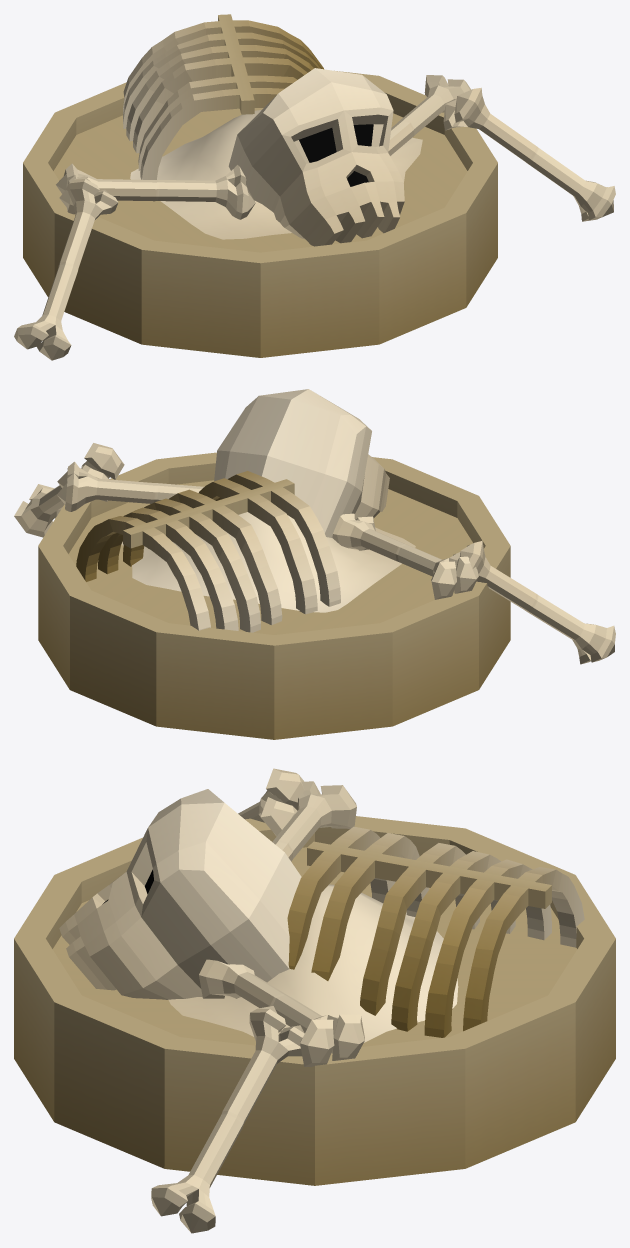
Rendered from BONFIRE.fbx.
3 views of the same model, one above another, from view 1: azimuth 30°, elevation 25°; view 2: azimuth 150°, elevation 25°; view 3: azimuth 270°, elevation 25° (orthographic). The views are drawn at different scales.
Parts seen in each view (by area): view 1: Cylinder, Cube.002, Cube.001, Plane, Cube.006, Cube.005, Cube.003, Cube.004; view 2: Cylinder, Cube.001, Cube.002, Plane, Cube.006, Cube.003, Cube.004, Cube.005; view 3: Cylinder, Cube.001, Cube.002, Plane, Cube.005, Cube.004, Cube.003, Cube.006.
Part boxes in pixels (x1,y1,x2,y2): Cylinder: (23,70,497,357); Cube.002: (228,68,404,246); Cube.001: (123,14,323,179); Plane: (130,110,422,239); Cube.006: (14,176,118,360); Cube.005: (443,87,615,221); Cube.003: (56,163,255,219); Cube.004: (388,75,470,155); Cylinder: (38,452,510,739); Cube.001: (76,471,340,632); Cube.002: (214,389,389,537); Plane: (121,512,415,612); Cube.006: (450,540,615,664); Cube.003: (332,513,478,599); Cube.004: (57,461,204,511); Cube.005: (14,443,124,537); Cylinder: (14,816,615,1185); Cube.001: (287,826,584,1037); Cube.002: (59,789,301,999); Plane: (168,884,458,1042); Cube.005: (151,1006,304,1233); Cube.004: (199,959,364,1066); Cube.003: (272,781,356,861); Cube.006: (238,768,304,836).
Bounding box in the file's own units: 288 × 98.09 × 200.
Materials: 1 (1 with a texture image).
